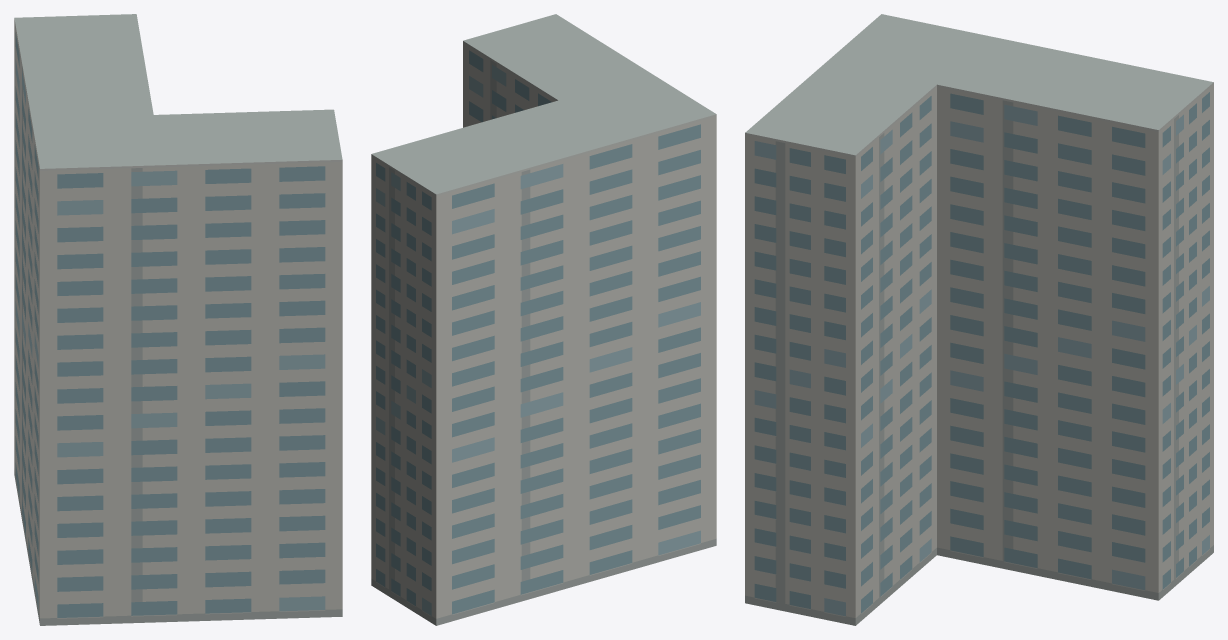
Rendered from residential-daaeaaec-a424-4ef5-9eeb-ef5efa801849.glb.
3 renders of one model, left to right at view 1: azimuth 30°, elevation 25°; view 2: azimuth 150°, elevation 25°; view 3: azimuth 270°, elevation 25°, orthographic. The views are drawn at different scales.
Visible parts, largest first — view 1: residential-daaeaaec-a424-4ef5-9eeb-ef5efa801849.tmp; view 2: residential-daaeaaec-a424-4ef5-9eeb-ef5efa801849.tmp; view 3: residential-daaeaaec-a424-4ef5-9eeb-ef5efa801849.tmp.
Boxes of the visible parts, x1=… form: residential-daaeaaec-a424-4ef5-9eeb-ef5efa801849.tmp: x1=14, y1=14, x2=342, y2=625; residential-daaeaaec-a424-4ef5-9eeb-ef5efa801849.tmp: x1=371, y1=14, x2=716, y2=625; residential-daaeaaec-a424-4ef5-9eeb-ef5efa801849.tmp: x1=745, y1=14, x2=1213, y2=625.
Bounding box in the file's own units: 34.16 × 53 × 47.86.
